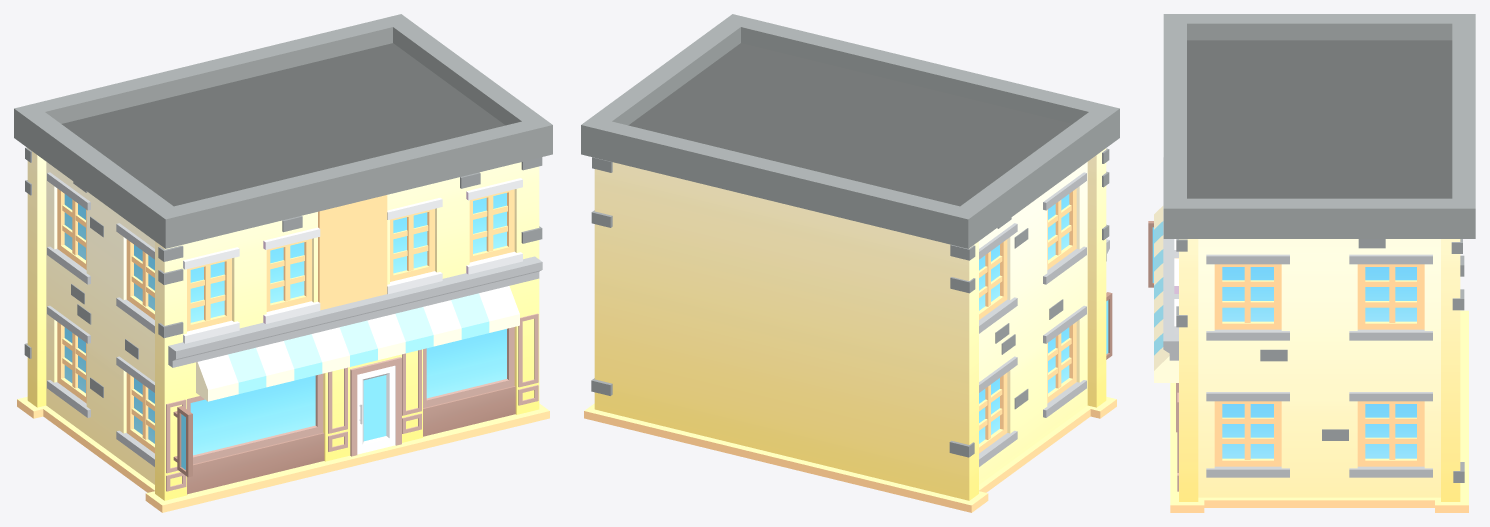
The model's file is city2-building-living-28.glb.
The picture shows the model from 3 angles, left to right: view 1: azimuth 30°, elevation 25°; view 2: azimuth 150°, elevation 25°; view 3: azimuth 270°, elevation 25°; orthographic projection. The views are drawn at different scales.
Visible parts, largest first — view 1: Building_Living_28; view 2: Building_Living_28; view 3: Building_Living_28.
Part boxes in pixels (x1,y1,x2,y2): Building_Living_28: [14, 14, 552, 512]; Building_Living_28: [581, 14, 1119, 512]; Building_Living_28: [1148, 14, 1475, 512].
Bounding box in the file's own units: 10.86 × 7.92 × 7.72.
1 material, 1 textured.
